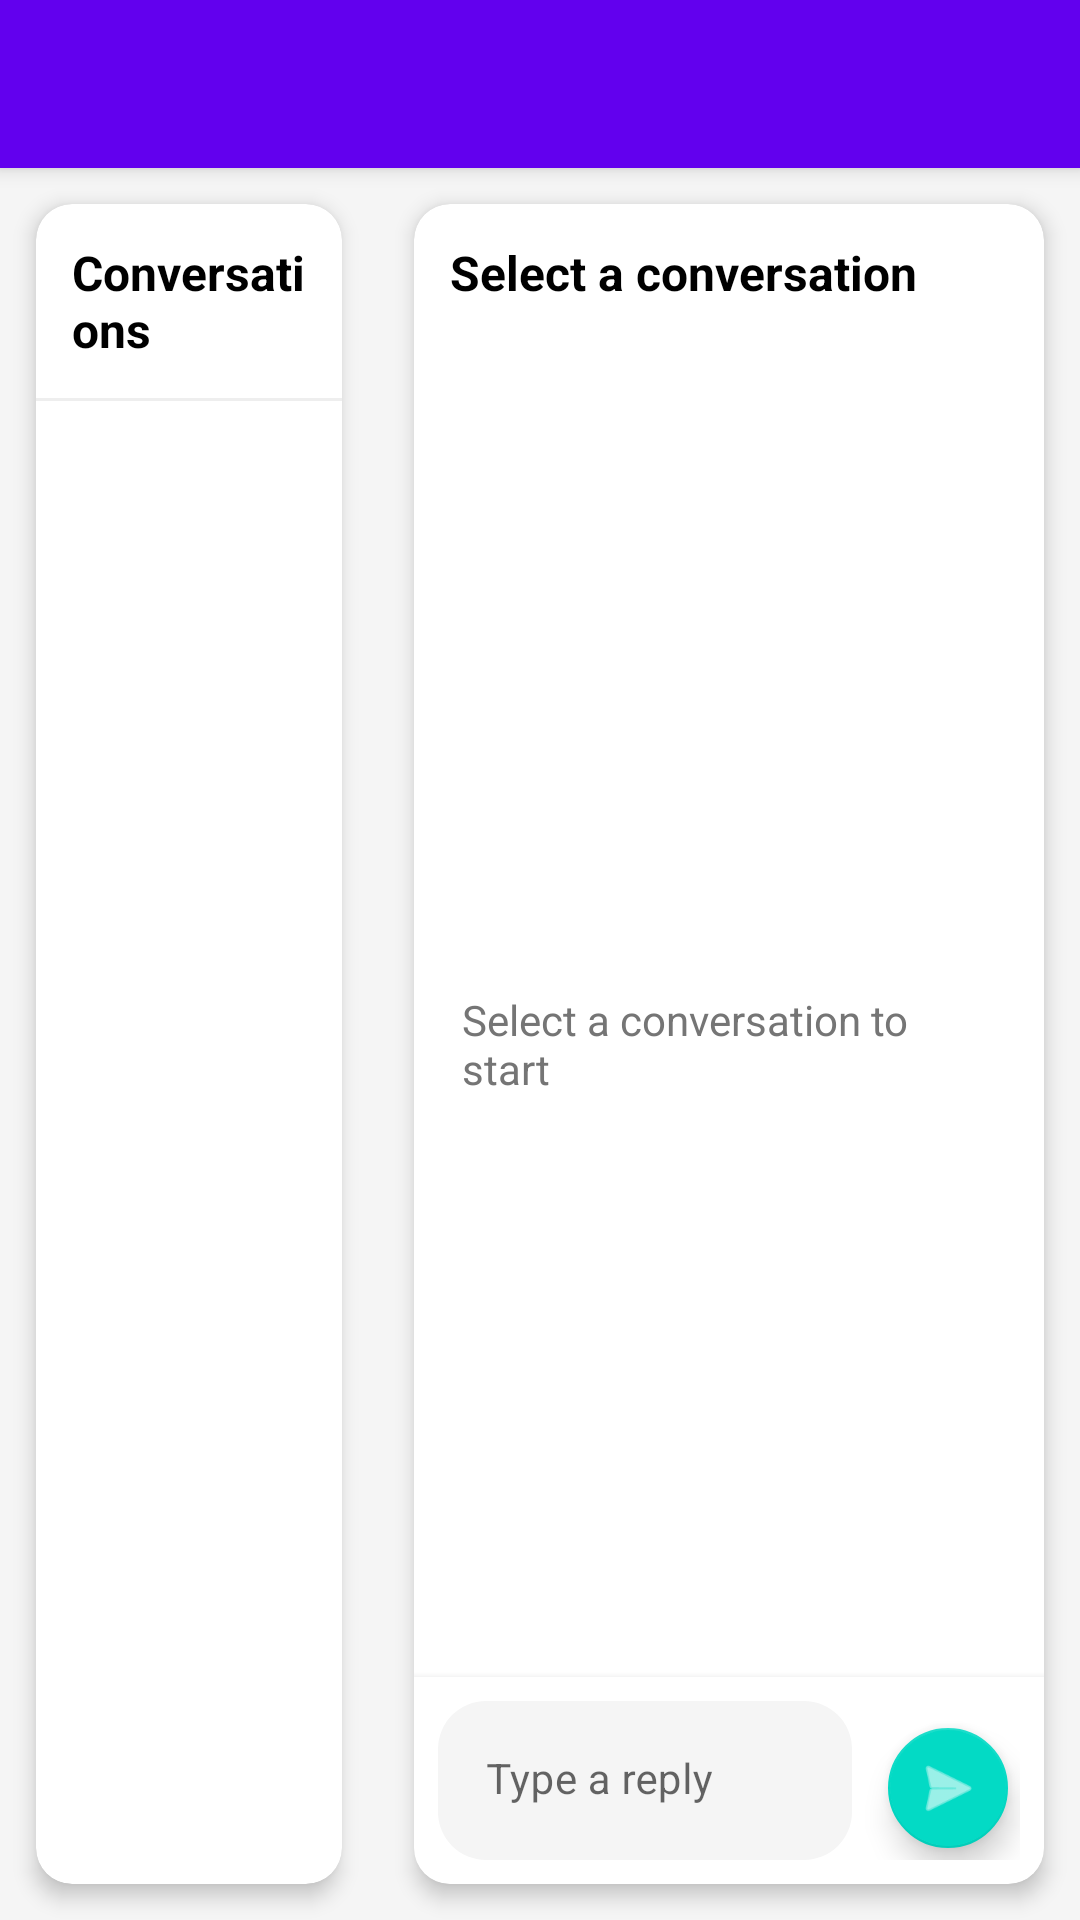

Where icons sit on this 1080x1920 app screen, as (x1, y1, x2, y2):
Send reply: (888, 1728, 1010, 1860)
